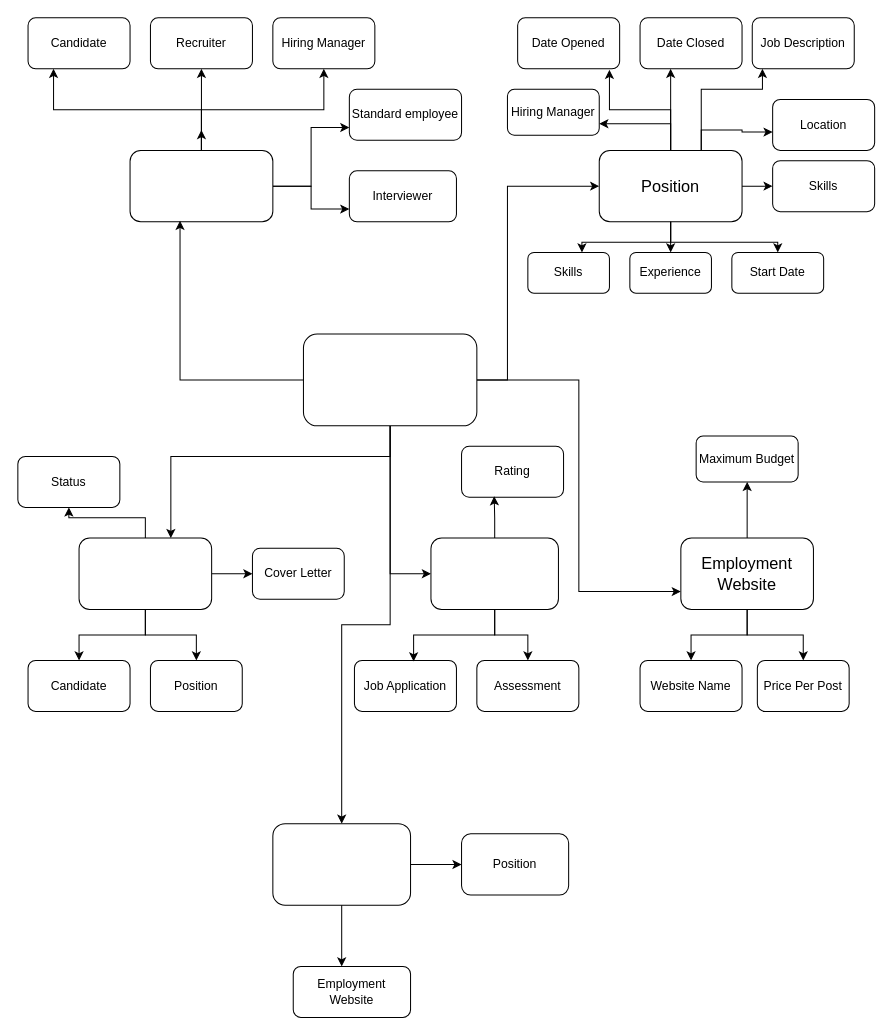
This 893x1035 diagram has some shape labels left out. Here are the shapes that lost their labels. From the top down, the centre of each, then its label:
At point 201,185: "Users".
At point 389,379: "Recruiting App Data Model".
At point 145,573: "Job Applications".
At point 494,573: "Review".
At point 341,864: "Job Posting".
